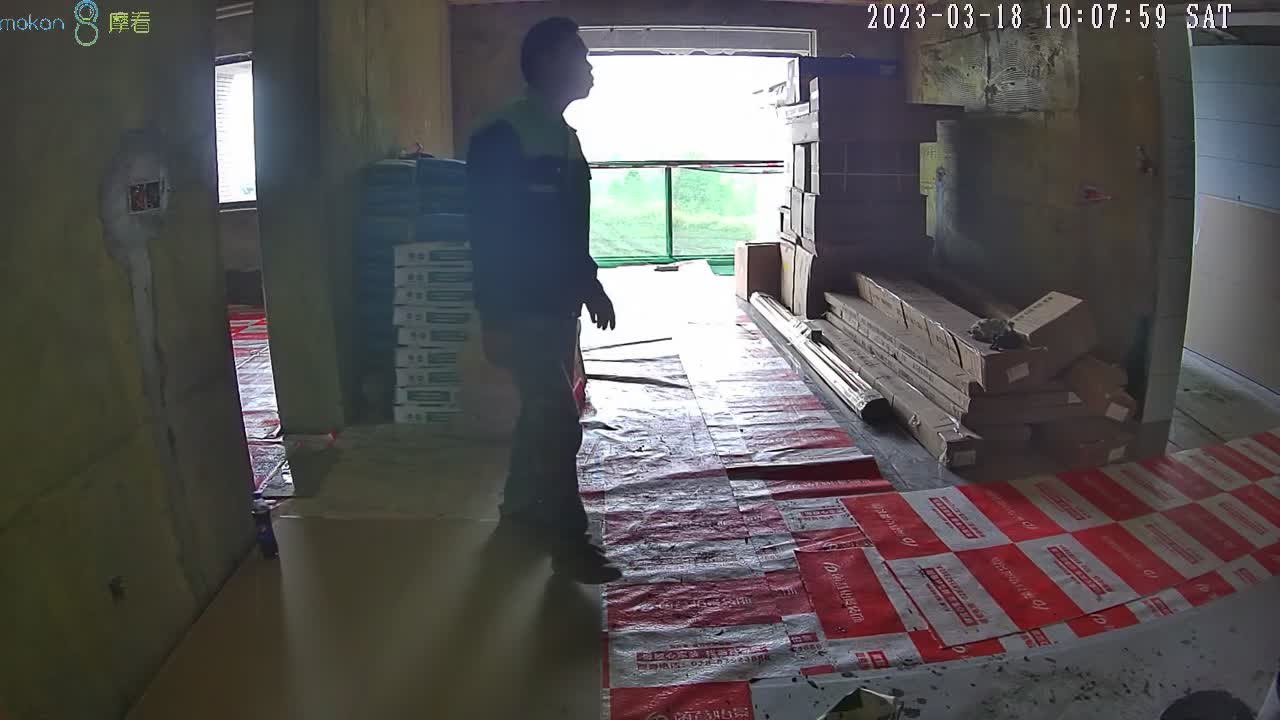people: (466, 16, 625, 582)
window: (587, 51, 805, 253)
